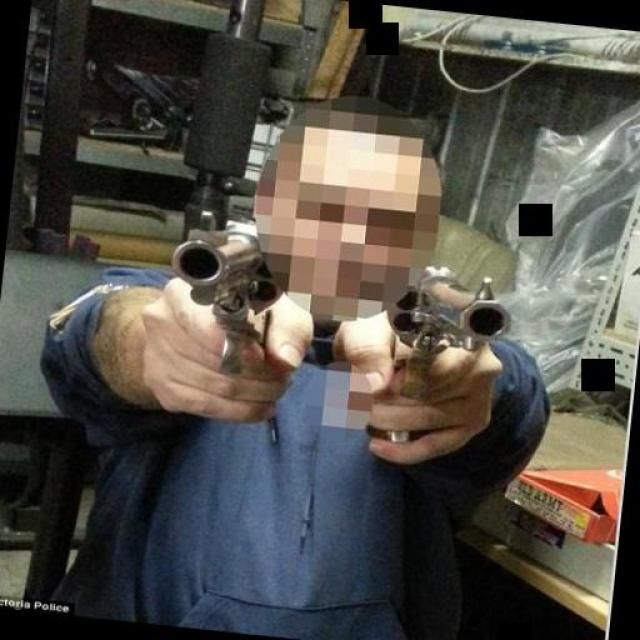gun: (360, 251, 516, 459), (158, 219, 282, 380)
